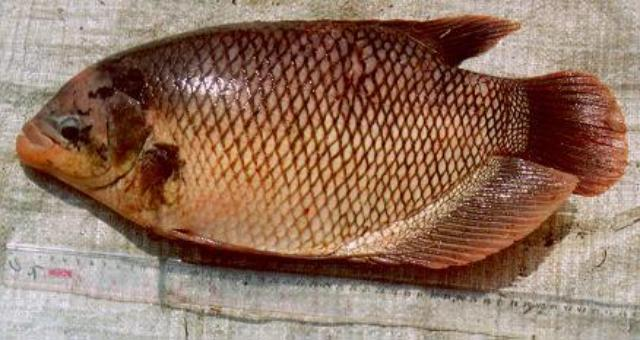Mulut: (5, 100, 75, 196)
Sirip Dada: (111, 137, 215, 235)
Sirip Ekor: (500, 52, 638, 210)
Sirip Punggung: (346, 5, 532, 85)
